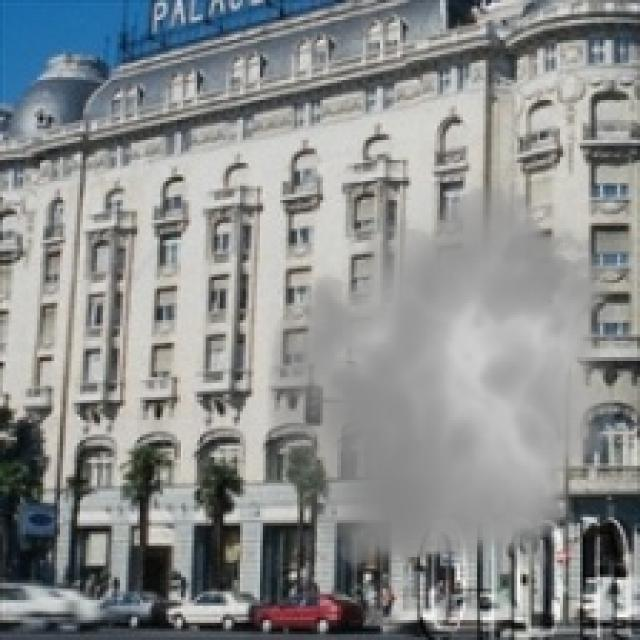smoke: (254, 168, 632, 588)
